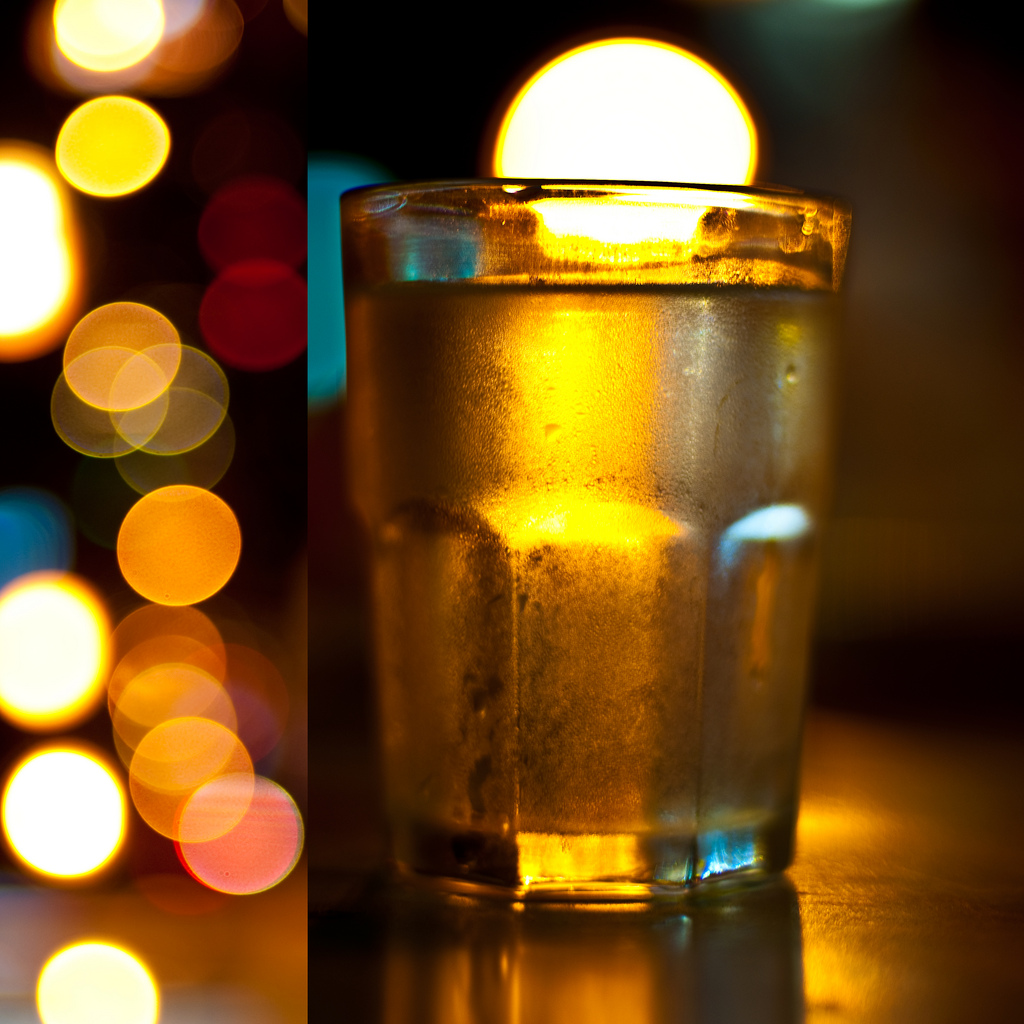glass of water: (334, 168, 865, 931)
